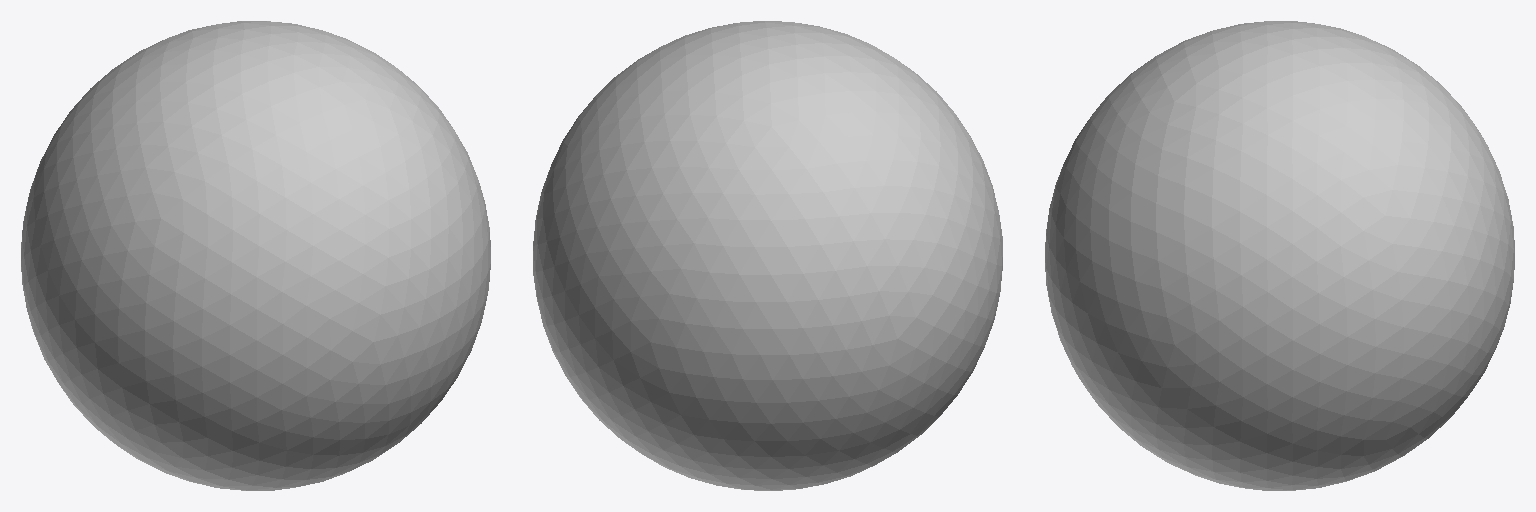
Rendered from Earth.obj.
3 renders of one model, left to right at view 1: azimuth 30°, elevation 25°; view 2: azimuth 150°, elevation 25°; view 3: azimuth 270°, elevation 25°, orthographic.
Visible parts, largest first — view 1: GeoSphere001; view 2: GeoSphere001; view 3: GeoSphere001.
Boxes of the visible parts, x1,y1,x2,y2 form: GeoSphere001: [21, 21, 490, 490]; GeoSphere001: [533, 21, 1002, 490]; GeoSphere001: [1045, 21, 1514, 490].
Bounding box in the file's own units: 22.85 × 22.84 × 22.88.